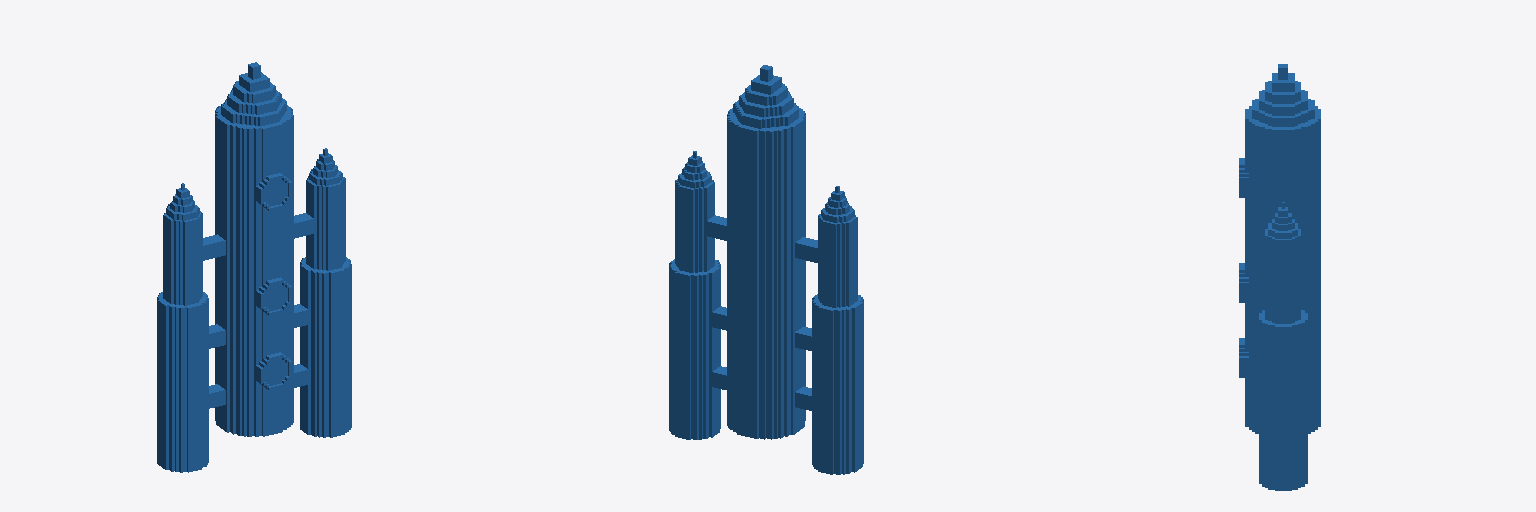
3 renders of one model, left to right at view 1: azimuth 30°, elevation 25°; view 2: azimuth 150°, elevation 25°; view 3: azimuth 270°, elevation 25°, orthographic.
Parts seen in each view (by area): view 1: object 1; view 2: object 1; view 3: object 1.
Boxes of the visible parts, x1,y1,x2,y2 form: object 1: [157, 62, 351, 472]; object 1: [669, 65, 863, 474]; object 1: [1239, 64, 1320, 490].
Size of the model in its own units: 6.5 by 12.7 by 2.5.
Materials: 1 (1 with a texture image).